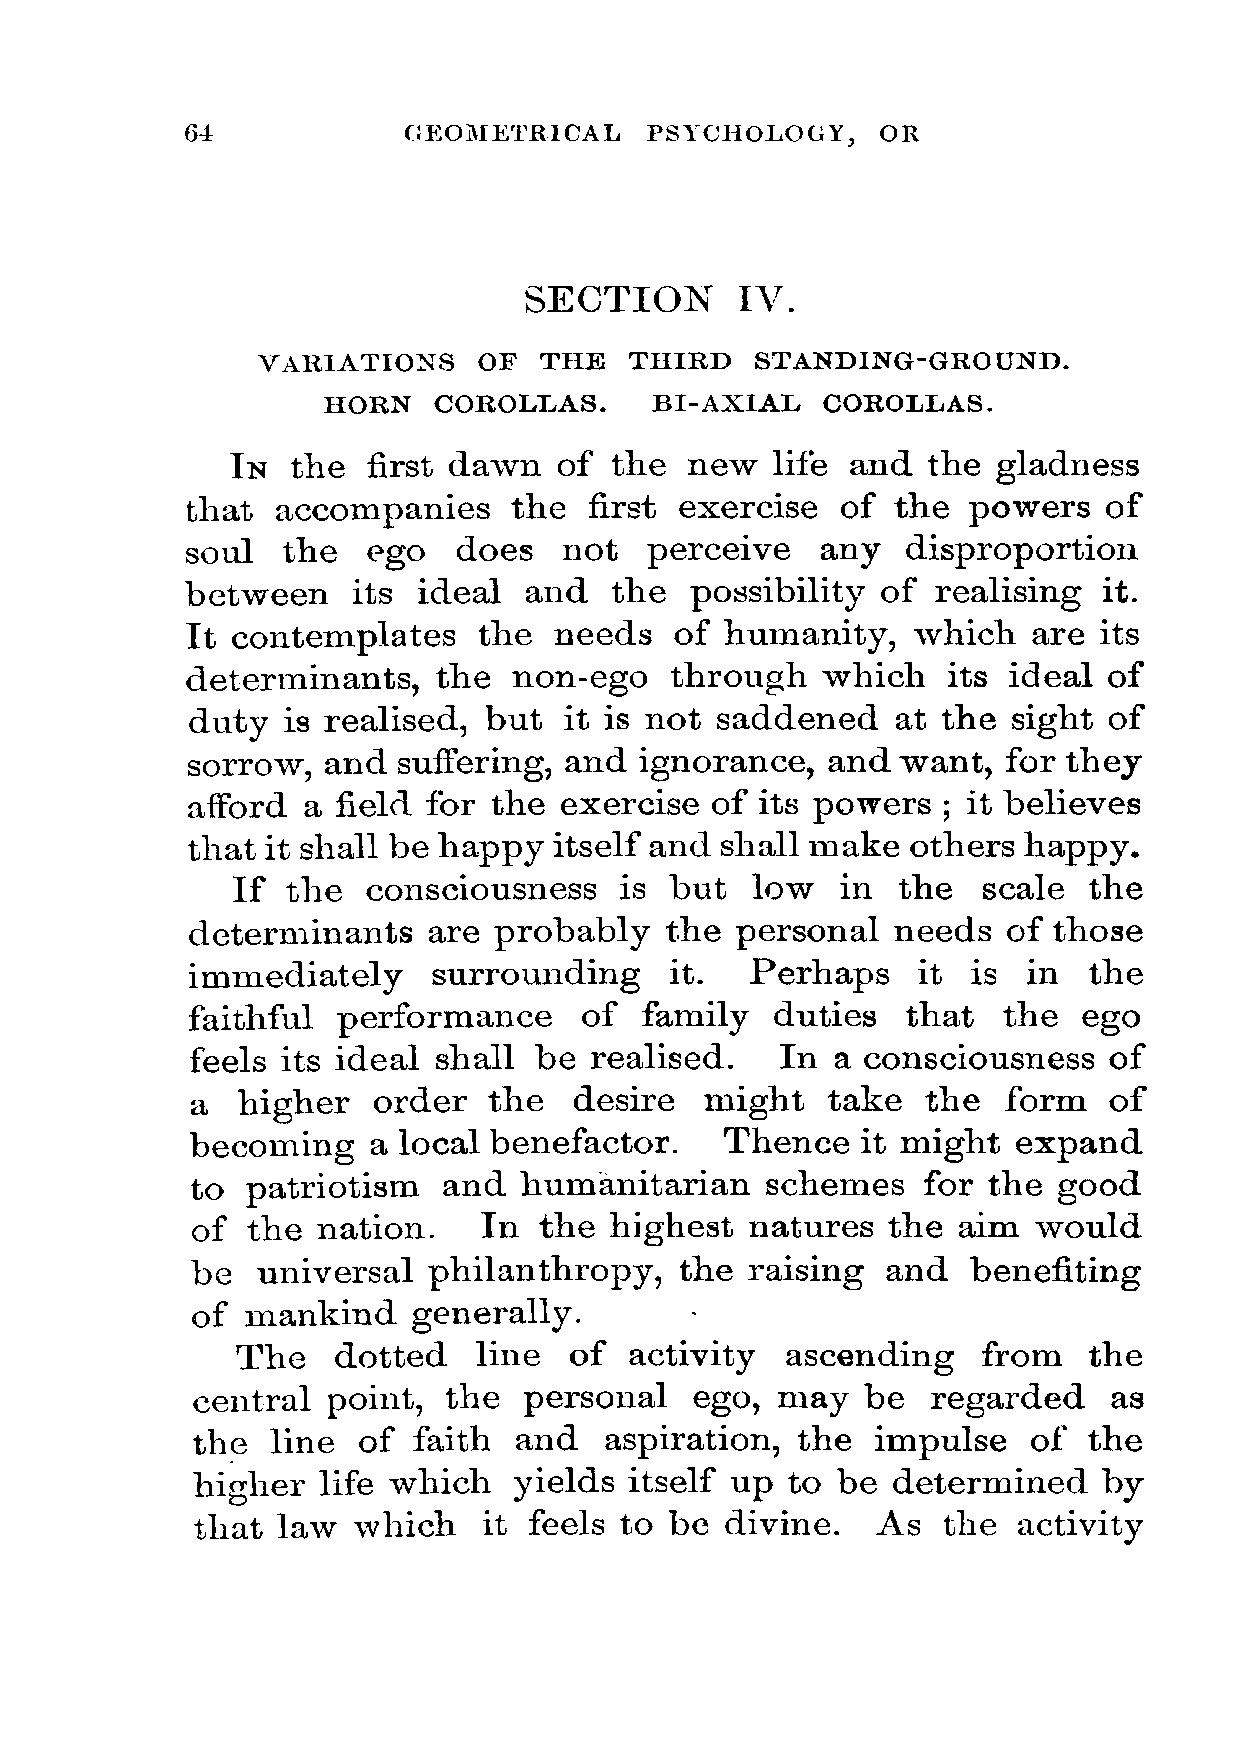chapter: (256, 278, 1070, 413), (397, 117, 919, 148)
content: (183, 446, 1146, 1547)
content_pagenumber: (181, 118, 209, 148)
